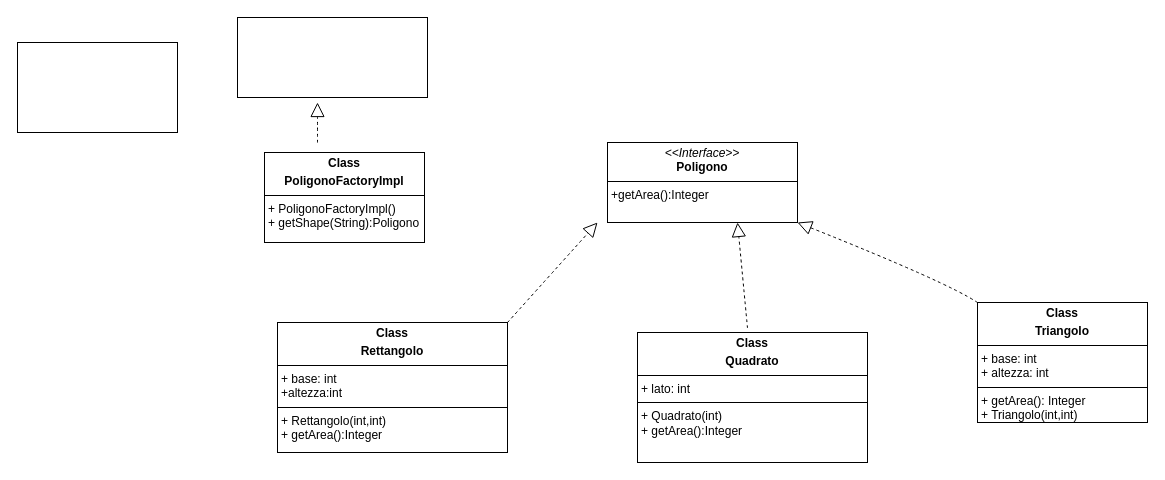
This 1165x480 diagram has some shape labels left out. Here are the shapes that lost their labels. From the top down, the box of each, then its label:
(236, 16, 428, 98): <<Interface>> PoligonoFactory + getShape(String): Poligono
(16, 42, 178, 132): FactoryPatternMain + FactoryPatternMain() + main(String): void
